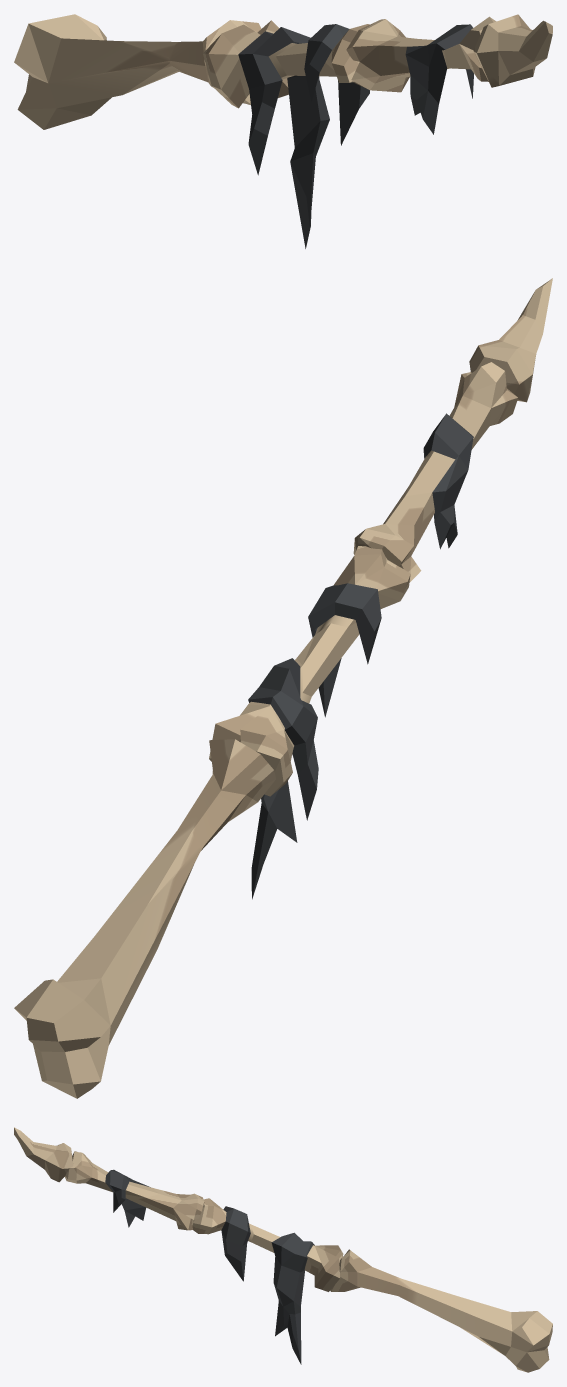
Rendered from SM_Veh_Ship_L_Bowsprit_02.fbx.
3 views of the same model, one above another, from view 1: azimuth 30°, elevation 25°; view 2: azimuth 150°, elevation 25°; view 3: azimuth 270°, elevation 25° (orthographic). The views are drawn at different scales.
Visible parts, largest first — view 1: SM_Veh_Ship_L_Bowsprit_02, SM_Veh_Ship_L_Bowsprit_02_Cloth; view 2: SM_Veh_Ship_L_Bowsprit_02, SM_Veh_Ship_L_Bowsprit_02_Cloth; view 3: SM_Veh_Ship_L_Bowsprit_02, SM_Veh_Ship_L_Bowsprit_02_Cloth.
Boxes of the visible parts, x1,y1,x2,y2 form: SM_Veh_Ship_L_Bowsprit_02: [14, 14, 552, 129]; SM_Veh_Ship_L_Bowsprit_02_Cloth: [238, 24, 473, 248]; SM_Veh_Ship_L_Bowsprit_02: [14, 278, 552, 1098]; SM_Veh_Ship_L_Bowsprit_02_Cloth: [248, 413, 473, 899]; SM_Veh_Ship_L_Bowsprit_02: [14, 1127, 552, 1372]; SM_Veh_Ship_L_Bowsprit_02_Cloth: [105, 1169, 314, 1364].
Bounding box in the file's own units: 151 × 738 × 1476.
